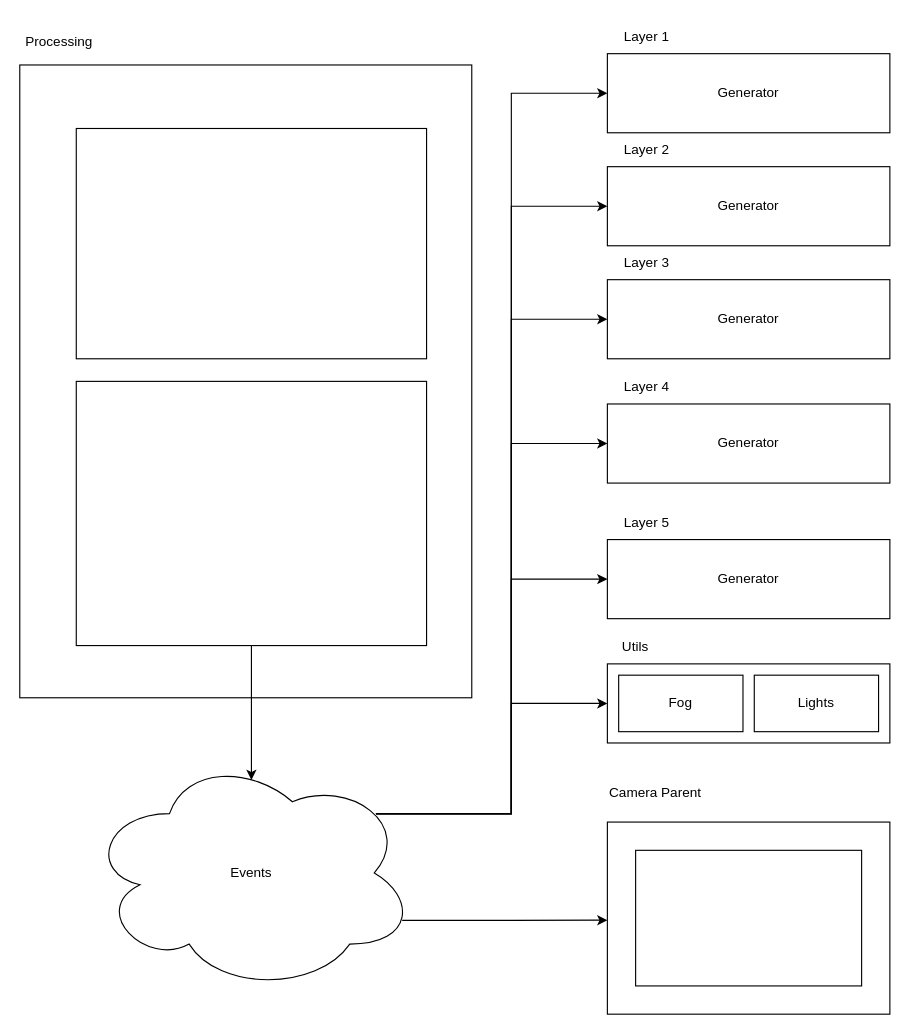
The diagram is 910 pixels wide and 1034 high, and some of its shapes have lost their labels. Here are the shapes that lost their labels. From the top down, the centre of each, then its label:
At pixel 251 243: "Audio Peer".
At pixel 251 513: "Feature extraction / Event System".
At pixel 748 917: "Camera".
